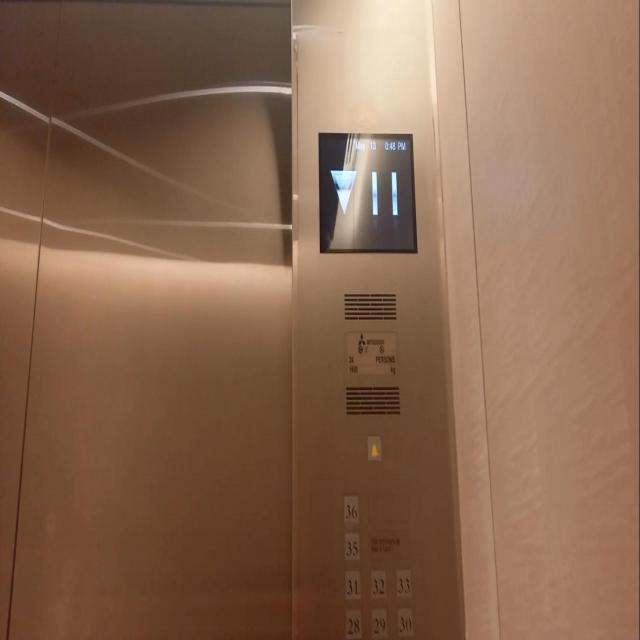28: (344, 608, 362, 639)
29: (369, 606, 388, 637)
30: (396, 603, 414, 639)
31: (343, 567, 362, 601)
32: (369, 568, 388, 602)
33: (394, 566, 413, 599)
35: (343, 530, 361, 562)
36: (342, 492, 361, 526)
alarm: (365, 431, 383, 465)
led: (316, 127, 419, 256)
